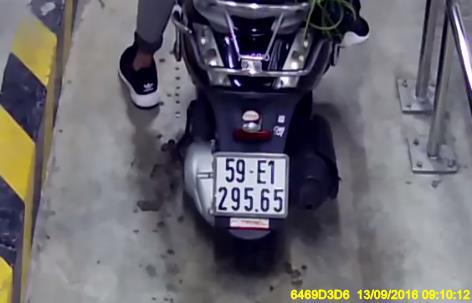License_Plate: (205, 142, 294, 223)
